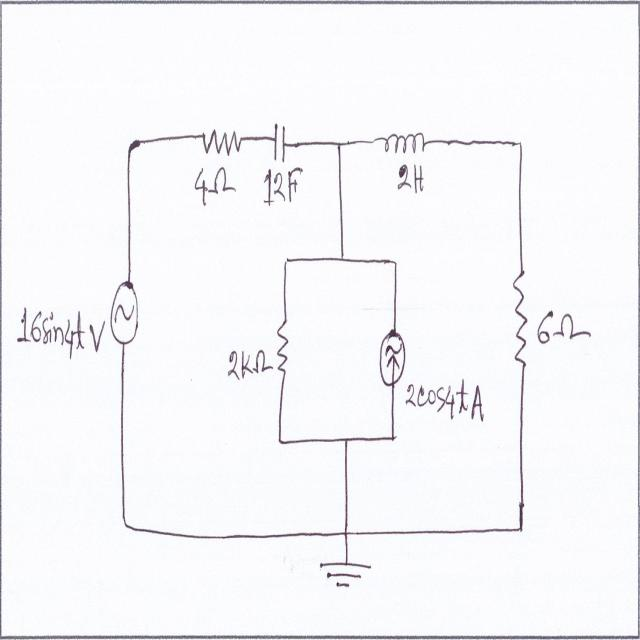ac_current: (110, 274, 143, 351)
capacitor: (272, 118, 288, 170)
current_source: (378, 326, 404, 390)
ground: (313, 560, 380, 596)
inductor: (375, 126, 428, 159)
resistor: (508, 266, 534, 372), (200, 116, 244, 160), (276, 315, 292, 380)
